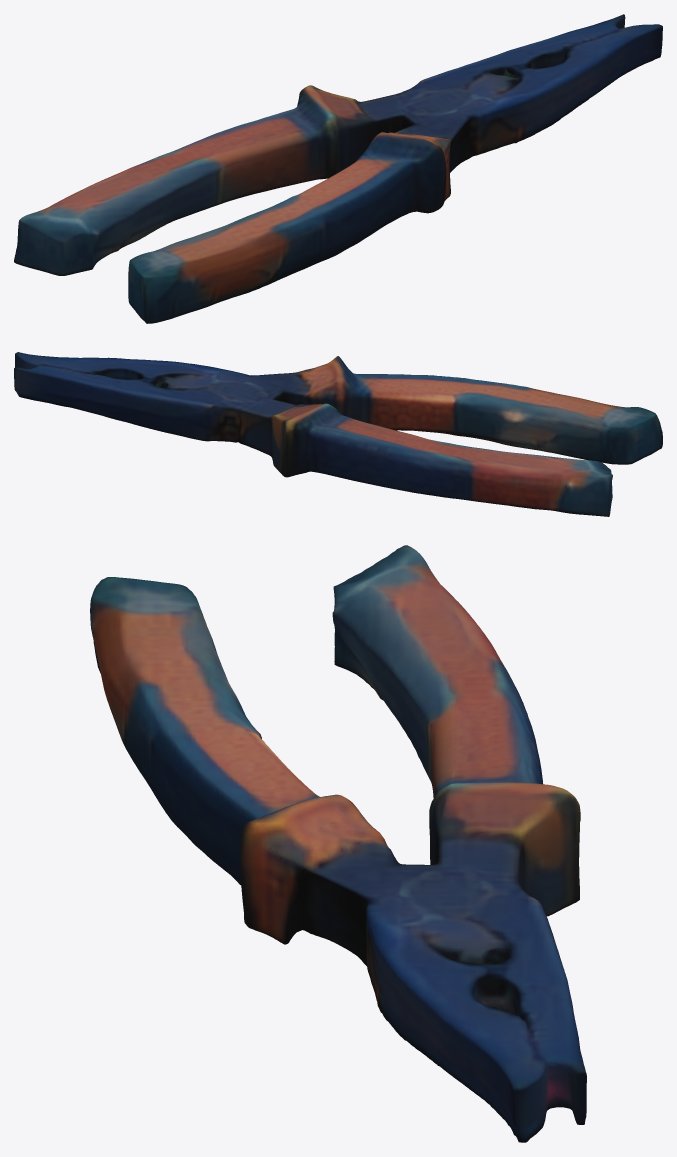
File: obj03_ours.glb
3 renders of one model, top to bottom at view 1: azimuth 30°, elevation 25°; view 2: azimuth 150°, elevation 25°; view 3: azimuth 270°, elevation 25°, orthographic. The views are drawn at different scales.
Parts seen in each view (by area): view 1: n1; view 2: n1; view 3: n1.
Part boxes in pixels (x1,y1,x2,y2): n1: (14, 14, 662, 323); n1: (14, 352, 662, 516); n1: (90, 545, 586, 1142).
Size of the model in its own units: 0.9749 by 0.0944 by 0.3683.
